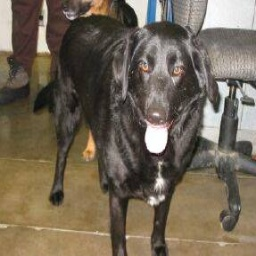dog: (46, 14, 219, 256)
